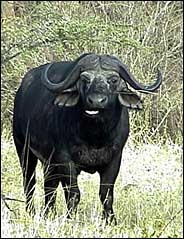buffalo: (12, 53, 161, 224)
